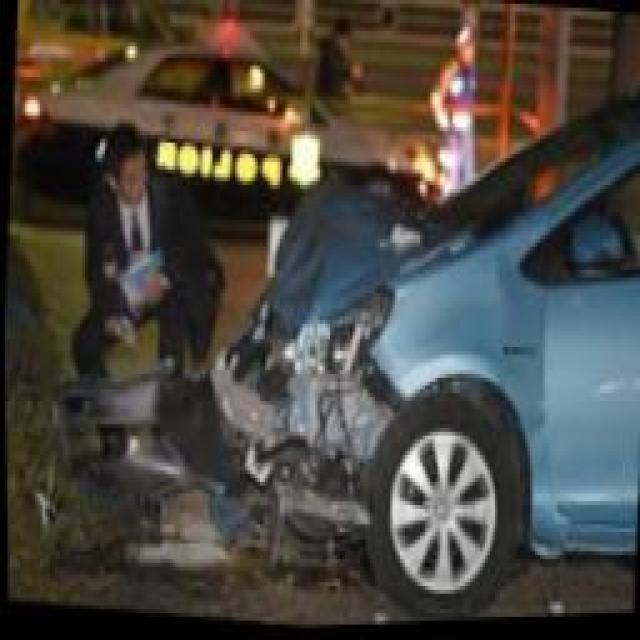Bonnet: (266, 185, 463, 334)
Bumper: (61, 298, 352, 558)
Light: (289, 300, 390, 381)
